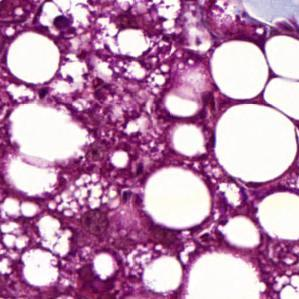steatosis: (143, 168, 217, 230), (208, 38, 268, 104), (5, 33, 63, 86)
